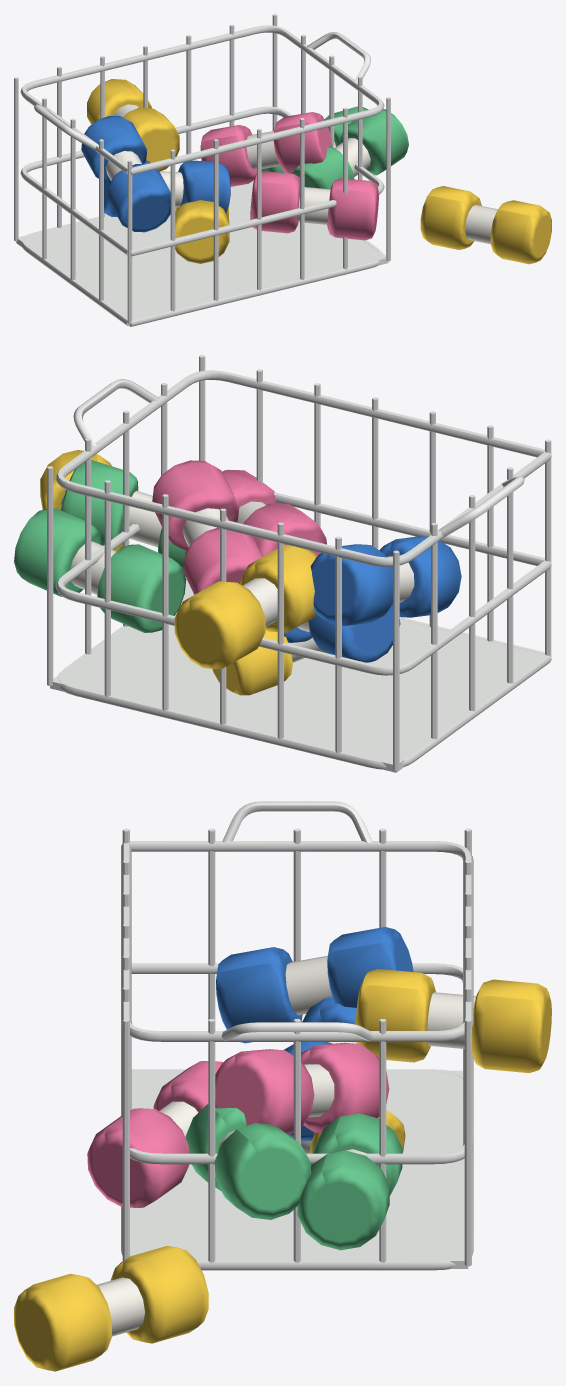
The model's file is buoy_basket.glb.
The picture shows the model from 3 angles, top to bottom: view 1: azimuth 30°, elevation 25°; view 2: azimuth 150°, elevation 25°; view 3: azimuth 270°, elevation 25°; orthographic projection. The views are drawn at different scales.
Visible parts, largest first — view 1: BuoyBasketBody; view 2: BuoyBasketBody; view 3: BuoyBasketBody.
Part boxes in pixels (left/top/right/bottom): BuoyBasketBody: left=14, top=14, right=551, bottom=326; BuoyBasketBody: left=14, top=355, right=551, bottom=772; BuoyBasketBody: left=14, top=801, right=551, bottom=1371.
Bounding box in the file's own units: 0.8183 × 0.3359 × 0.5976.
